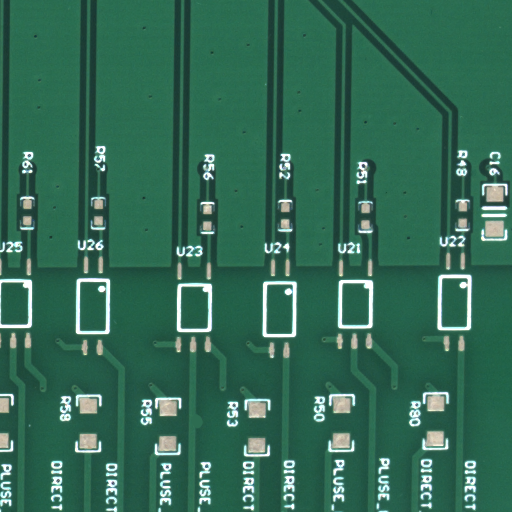Spur: (199, 420, 208, 439)
